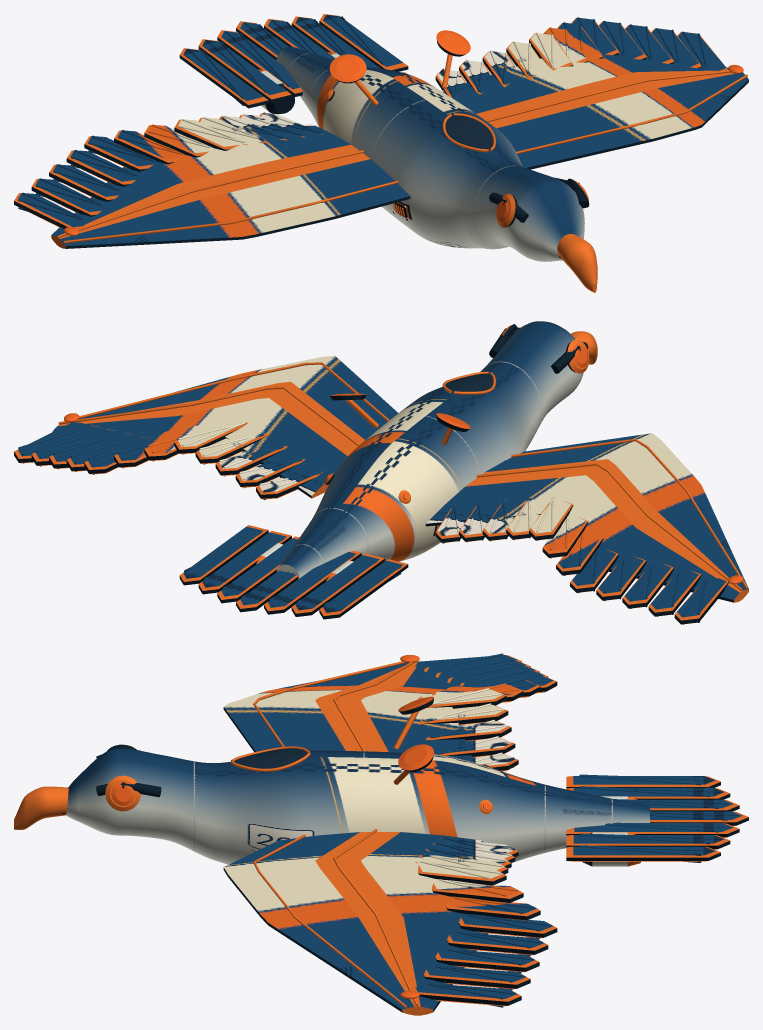
3 views of the same model, one above another, from view 1: azimuth 30°, elevation 25°; view 2: azimuth 150°, elevation 25°; view 3: azimuth 270°, elevation 25° (orthographic). The views are drawn at different scales.
Parts seen in each view (by area): view 1: osprey_hull; view 2: osprey_hull; view 3: osprey_hull.
Boxes of the visible parts, <box> form: osprey_hull: <box>14,14,748,292</box>; osprey_hull: <box>14,321,748,624</box>; osprey_hull: <box>14,653,748,1015</box>.
Bounding box in the file's own units: 68 × 14.37 × 60.96.
Materials: 1 (1 with a texture image).
